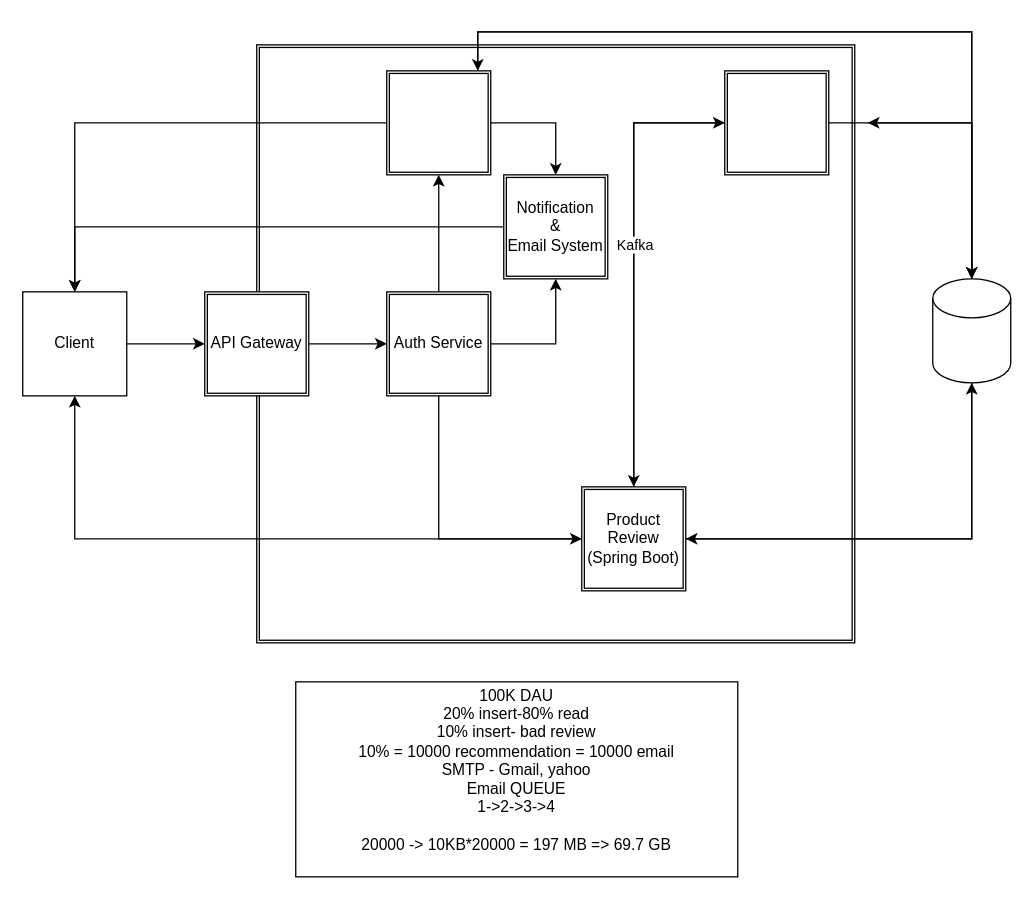
The diagram is 1034 pixels wide and 900 high, and some of its shapes have lost their labels. The centre of each missing label's shape, as x and y in pixels:
Postgresql: (x=971, y=330)
Recomme ndation System (Spring boot): (x=438, y=122)
Sentiment Analysis (Flask): (x=776, y=122)
